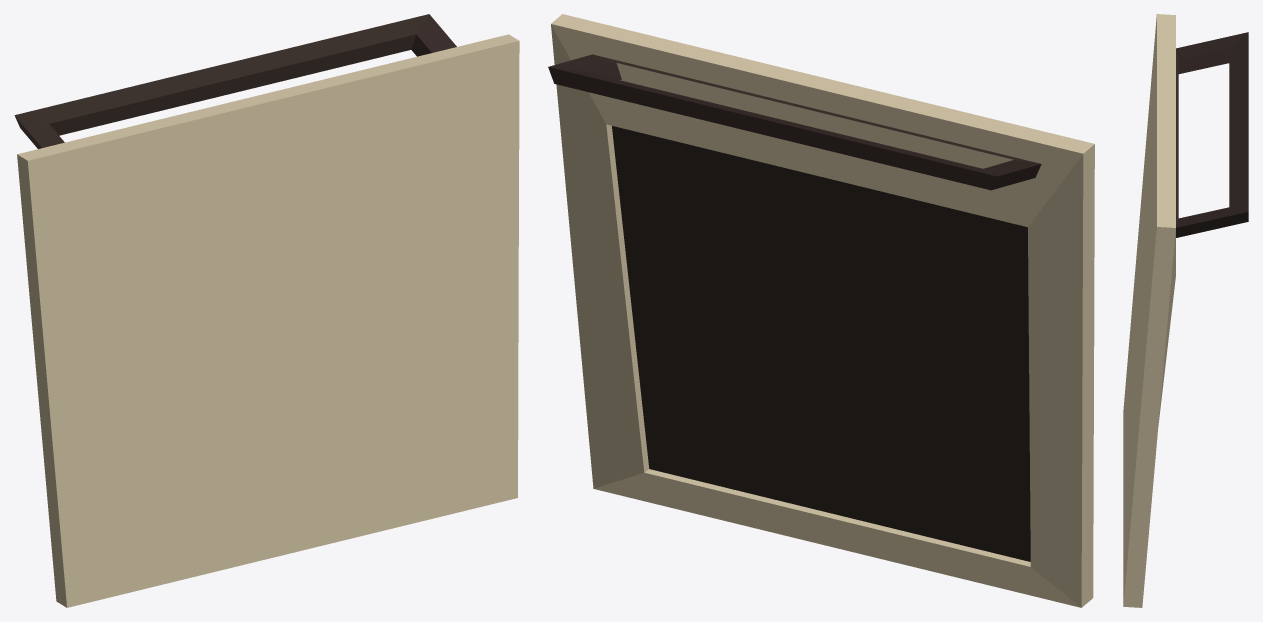
File: PuertaEstufa.obj
The picture shows the model from 3 angles, left to right: view 1: azimuth 30°, elevation 25°; view 2: azimuth 150°, elevation 25°; view 3: azimuth 270°, elevation 25°; orthographic projection. The views are drawn at different scales.
Parts seen in each view (by area): view 1: EstufaPuerta Estufa; view 2: EstufaPuerta Estufa; view 3: EstufaPuerta Estufa.
Part boxes in pixels (x1,y1,x2,y2): EstufaPuerta Estufa: (14,14,519,607); EstufaPuerta Estufa: (548,14,1094,607); EstufaPuerta Estufa: (1123,14,1248,607).
Size of the model in its own units: 131 by 112 by 32.49.
1 material, 1 textured.
